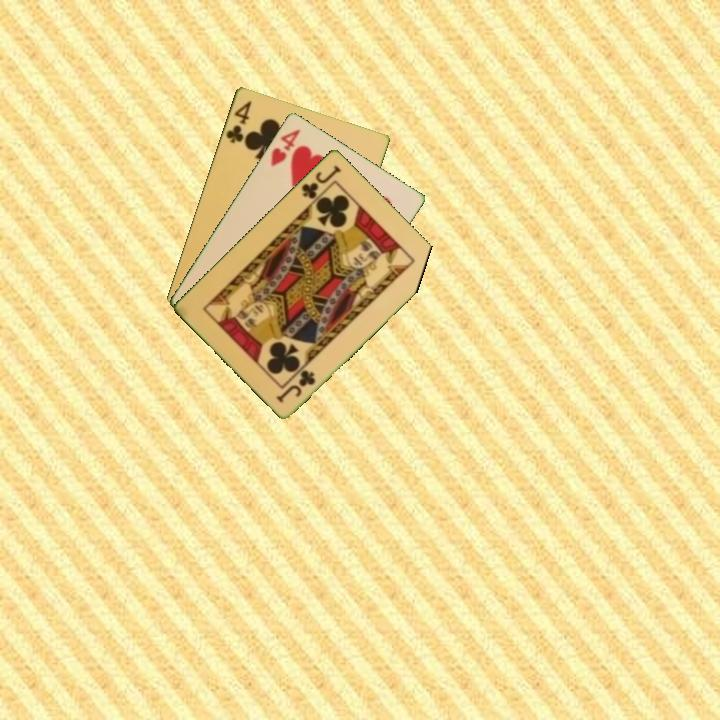4c: (222, 97, 254, 145)
4h: (267, 125, 303, 169)
Jc: (298, 161, 344, 202), (273, 366, 318, 405)
